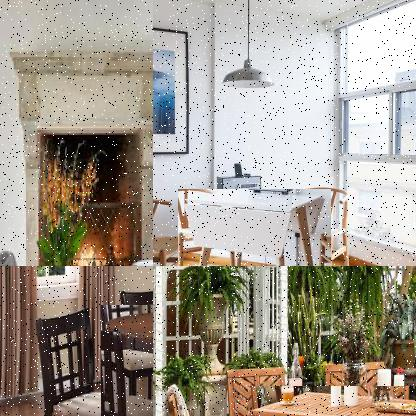table: (178, 189, 332, 265), (101, 305, 152, 415)
